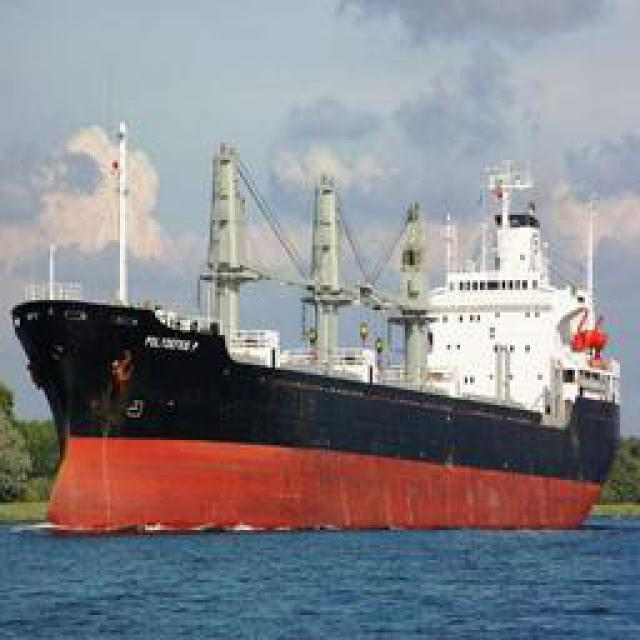Ship: (16, 195, 619, 535)
